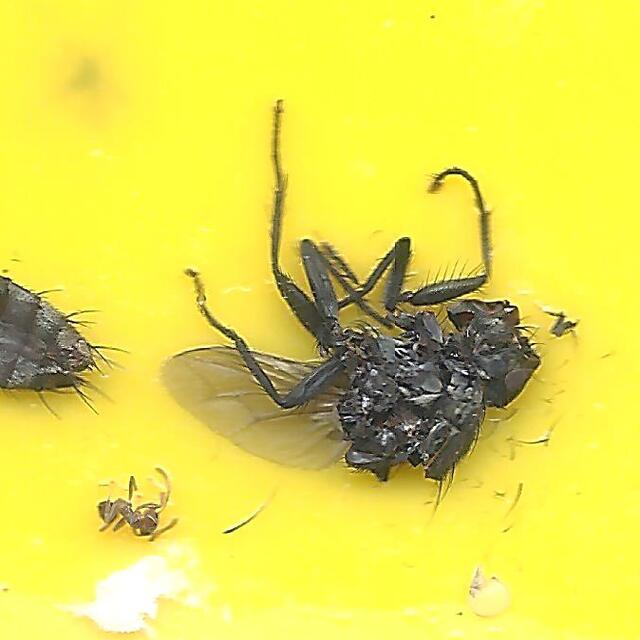Brachycera: (159, 96, 545, 487)
Hymenoptera: (95, 481, 176, 544)
